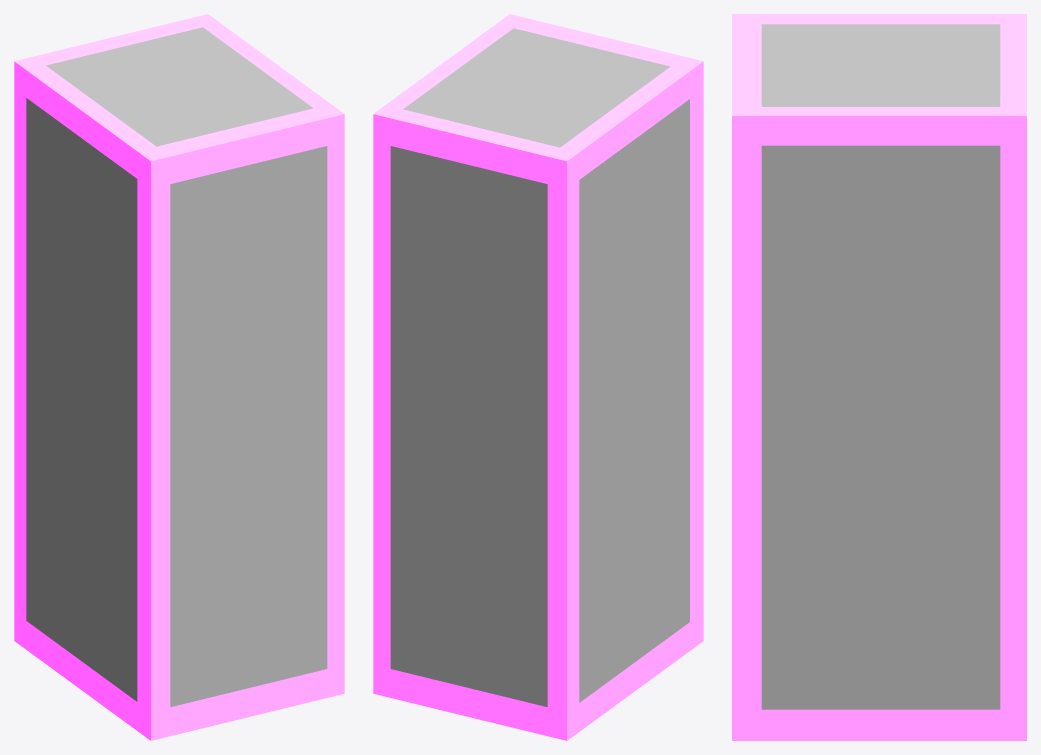
File: Obstacle1.fbx
The picture shows the model from 3 angles, left to right: view 1: azimuth 30°, elevation 25°; view 2: azimuth 150°, elevation 25°; view 3: azimuth 270°, elevation 25°; orthographic projection. The views are drawn at different scales.
Parts seen in each view (by area): view 1: Cube; view 2: Cube; view 3: Cube.
Part boxes in pixels (<box>): Cube: <box>14,14,344,740</box>; Cube: <box>373,14,703,740</box>; Cube: <box>732,14,1026,740</box>.
Size of the model in its own units: 200 by 571 by 244.
